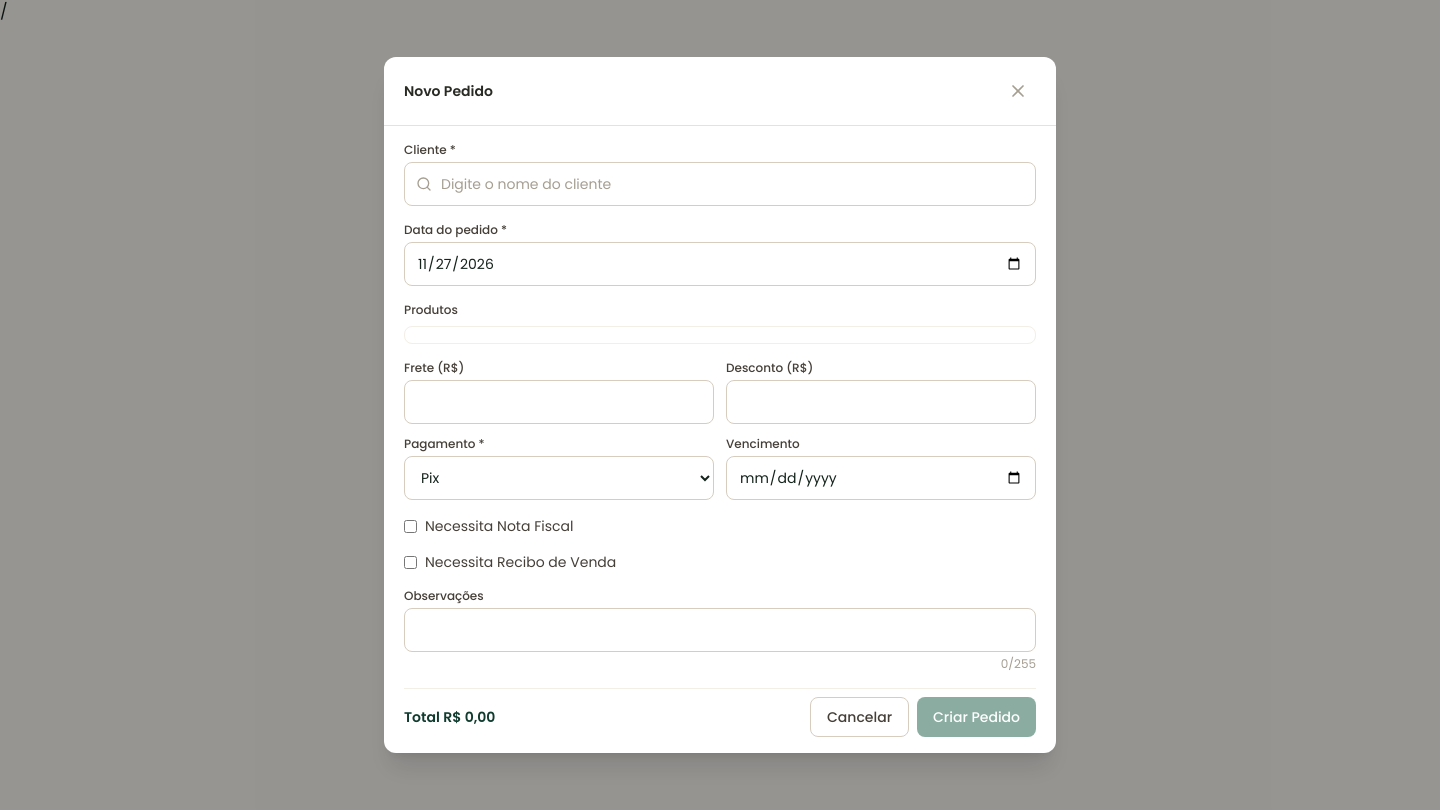
Test: NovoPedidoModal › respostas que não são lista viram lista vazia; cadastrar cliente abre o cadastro
Later steps or results of the test are not shown.
Focus the field with placeholder "Digite o nome do cliente" at (720, 184), box left=404, top=162, right=1036, bottom=206
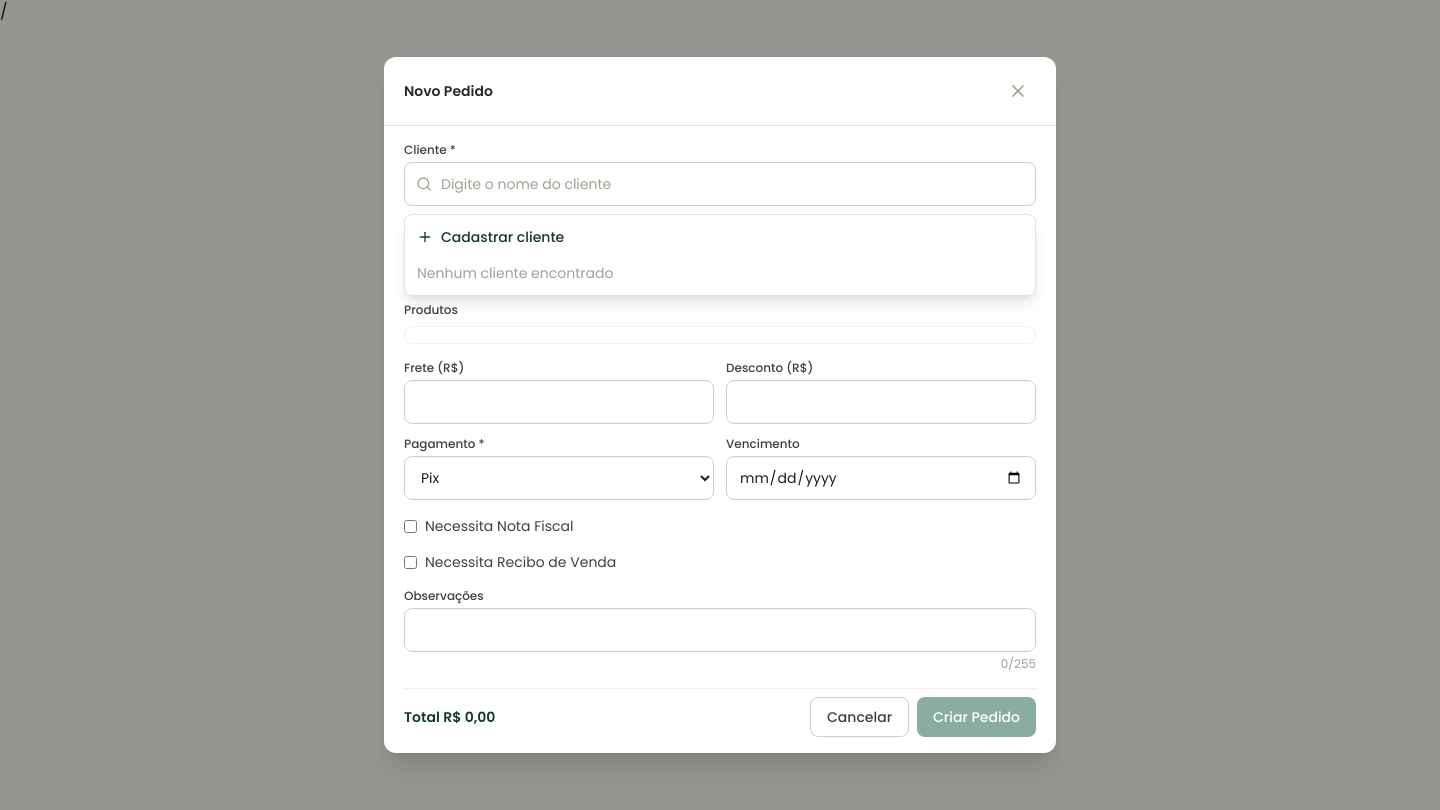
Check: the text "Nenhum cliente encontrado" is shown, box left=417, top=263, right=613, bottom=283
